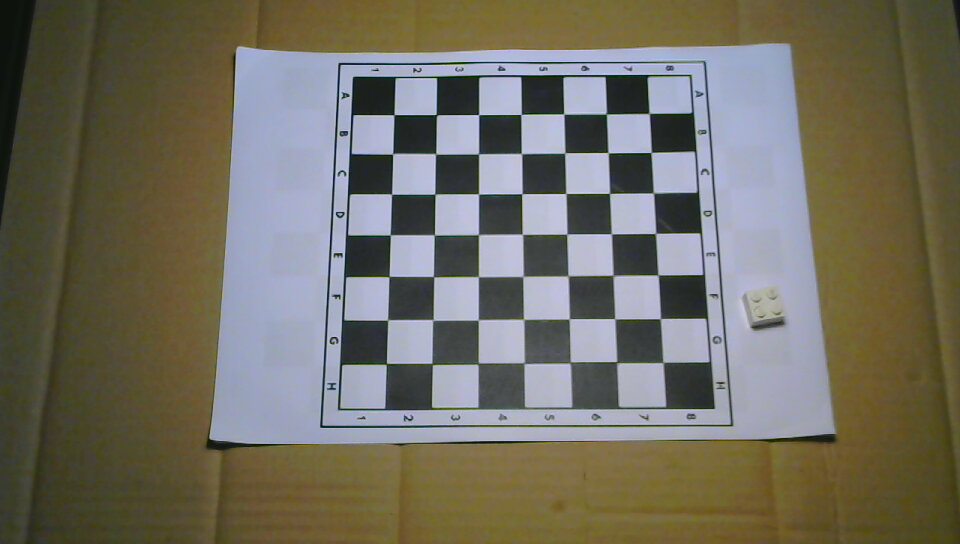wp: (741, 286, 787, 328)
